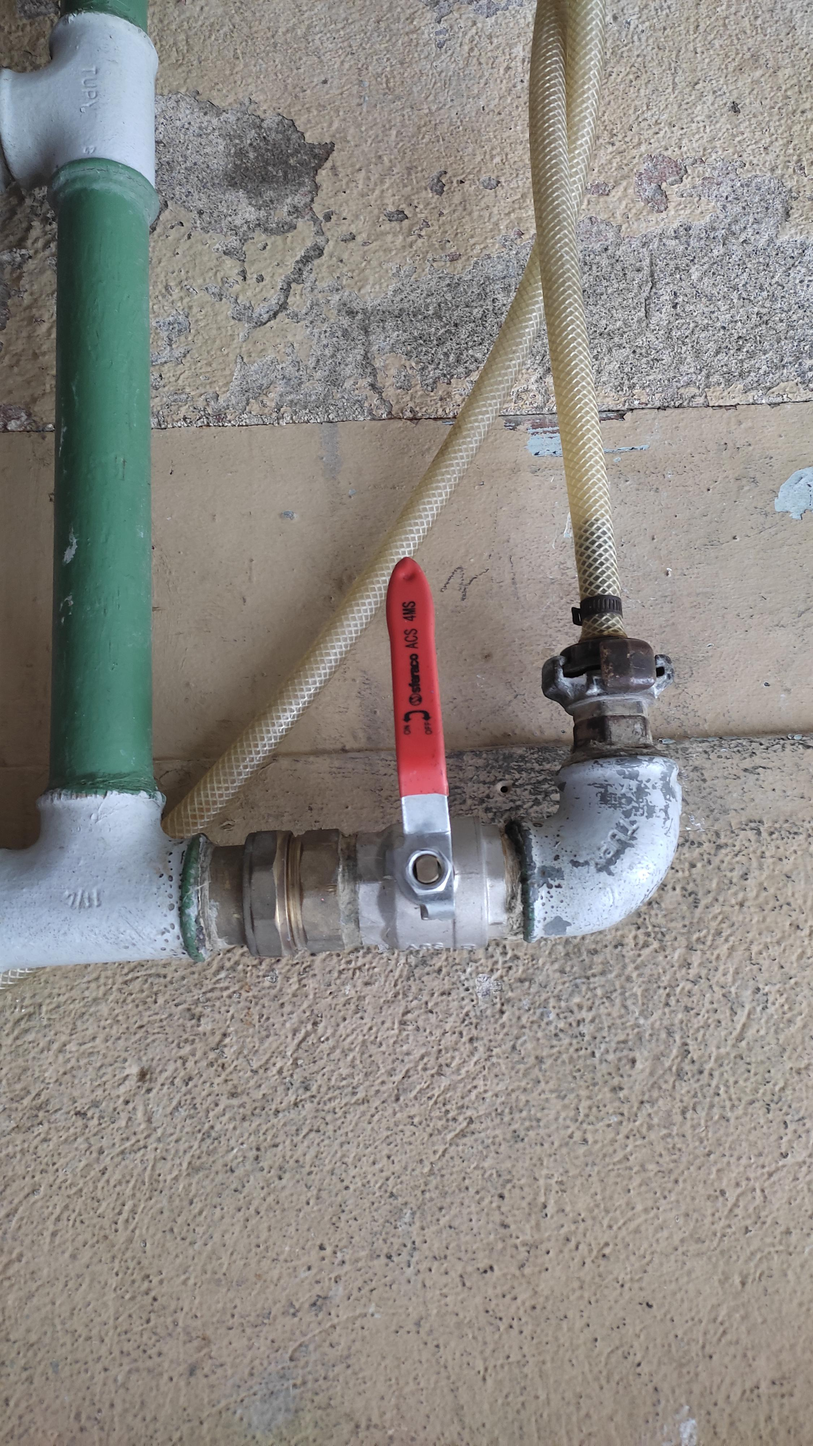closed valve: (352, 552, 516, 961)
